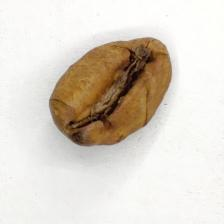NG: (65, 49, 149, 146)
